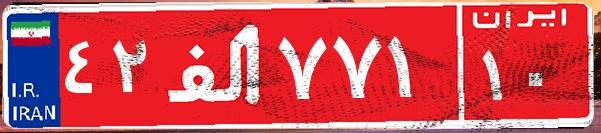0: (525, 38, 570, 115)
1: (385, 28, 445, 110), (475, 38, 525, 113)
2: (110, 28, 158, 105)
4: (57, 26, 110, 107)
7: (273, 28, 330, 110), (330, 28, 385, 110)
الف: (158, 15, 273, 115)
